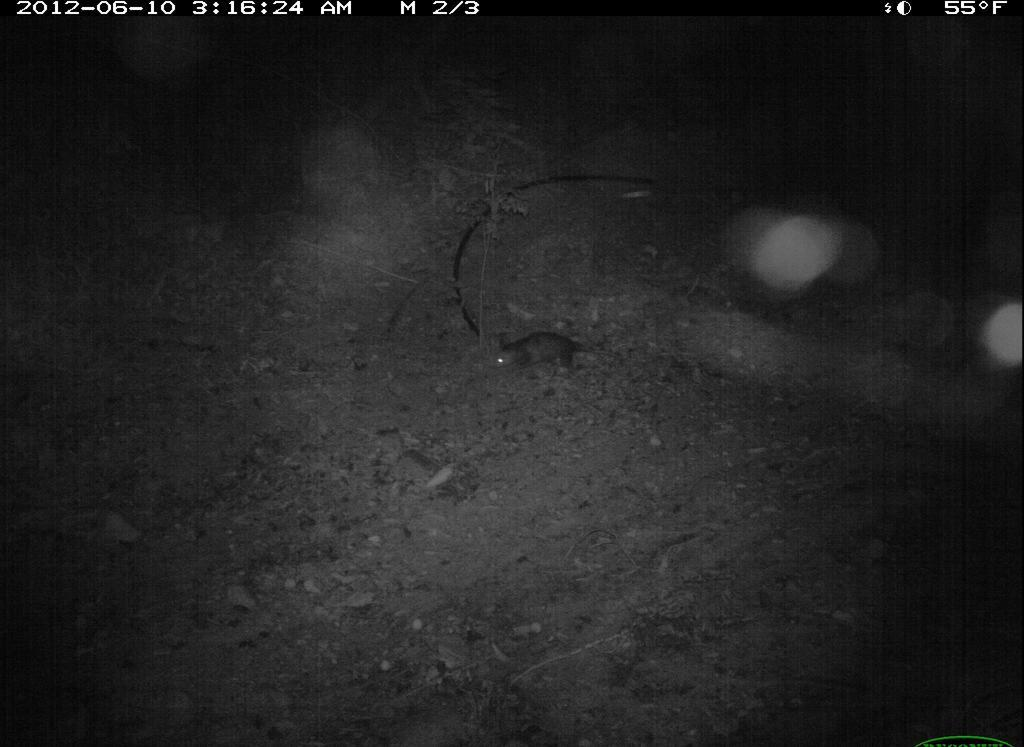opossum: (460, 317, 634, 393)
